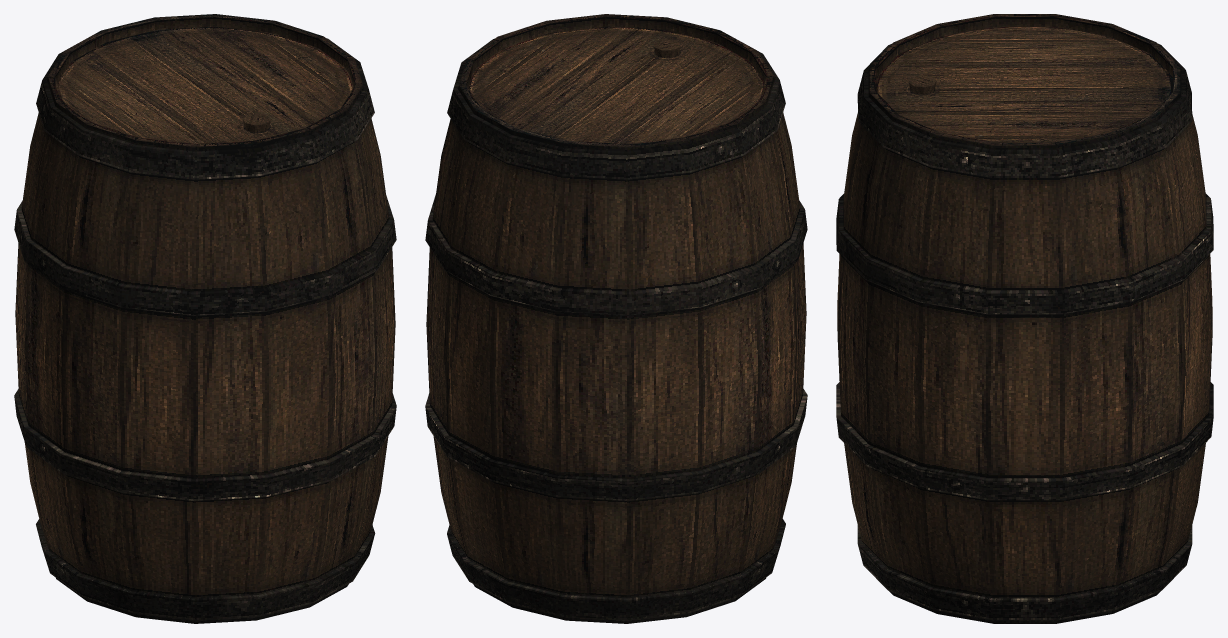
The model's file is wooden_barrel_1.glb.
3 renders of one model, left to right at view 1: azimuth 30°, elevation 25°; view 2: azimuth 150°, elevation 25°; view 3: azimuth 270°, elevation 25°, orthographic.
Parts seen in each view (by area): view 1: wooden_barrel_1; view 2: wooden_barrel_1; view 3: wooden_barrel_1.
Boxes of the visible parts, <box> form: wooden_barrel_1: <box>14,14,396,623</box>; wooden_barrel_1: <box>425,14,807,623</box>; wooden_barrel_1: <box>836,14,1213,623</box>.
Size of the model in its own units: 0.7863 by 1.1 by 0.7863.
Materials: 1 (1 with a texture image).
